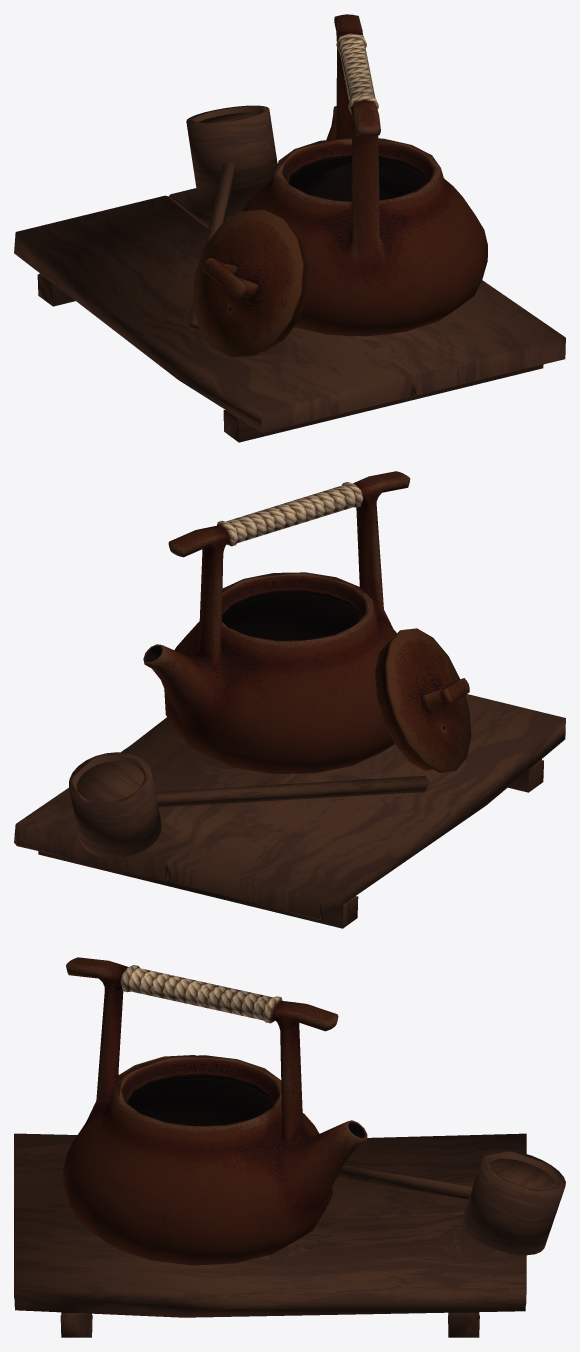
File: mdl_hub_teapot.gltf
3 renders of one model, top to bottom at view 1: azimuth 30°, elevation 25°; view 2: azimuth 150°, elevation 25°; view 3: azimuth 270°, elevation 25°, orthographic. The views are drawn at different scales.
Visible parts, largest first — view 1: Object_3, Object_5, Object_2, Object_4; view 2: Object_3, Object_5, Object_4, Object_2; view 3: Object_5, Object_3, Object_4.
Part boxes in pixels (box(x1,y1,x2,y2)): Object_3: box(14, 181, 565, 442); Object_5: box(242, 14, 487, 336); Object_2: box(192, 209, 310, 357); Object_4: box(186, 105, 277, 330); Object_3: box(14, 694, 565, 928); Object_5: box(143, 471, 410, 773); Object_4: box(69, 752, 429, 858); Object_2: box(375, 628, 471, 772); Object_5: box(63, 957, 367, 1265); Object_3: box(14, 1133, 526, 1337); Object_4: box(337, 1150, 565, 1255).
Size of the model in its own units: 2.56 by 2.24 by 3.79.
Materials: 3 (3 with a texture image).
